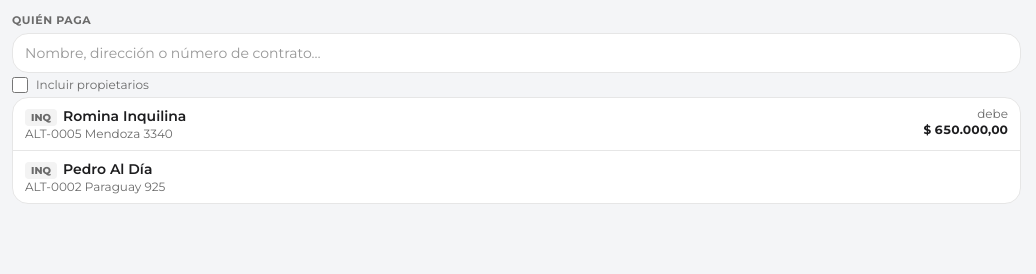
SelectorPersona (punto 6 de Javier) › los propietarios solo aparecen si se piden
The image size is (1036, 274).
expect the text "Juan Dueño" is not shown: met
Click the checkbox labelled "Incluir propietarios". click: point(20, 84)
box: [12,76,28,92]
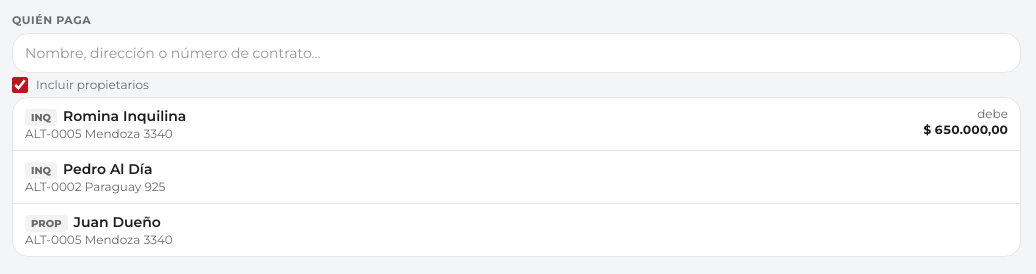
expect the text "Juan Dueño" is shown: met, box [74,212,161,230]
expect the text "PROP" is shown: met, box [25,214,68,232]
